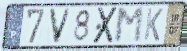7: (26, 8, 47, 46)
8: (72, 8, 91, 44)
K: (142, 7, 165, 43)
M: (114, 6, 145, 45)
V: (48, 7, 73, 46)
X: (91, 6, 120, 46)
